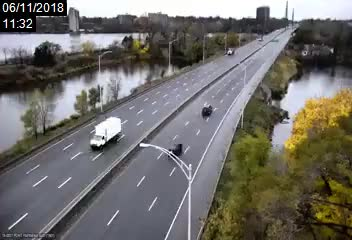personal_car: (167, 140, 186, 160), (198, 102, 215, 117)
truck: (87, 116, 125, 150), (225, 47, 237, 56)
